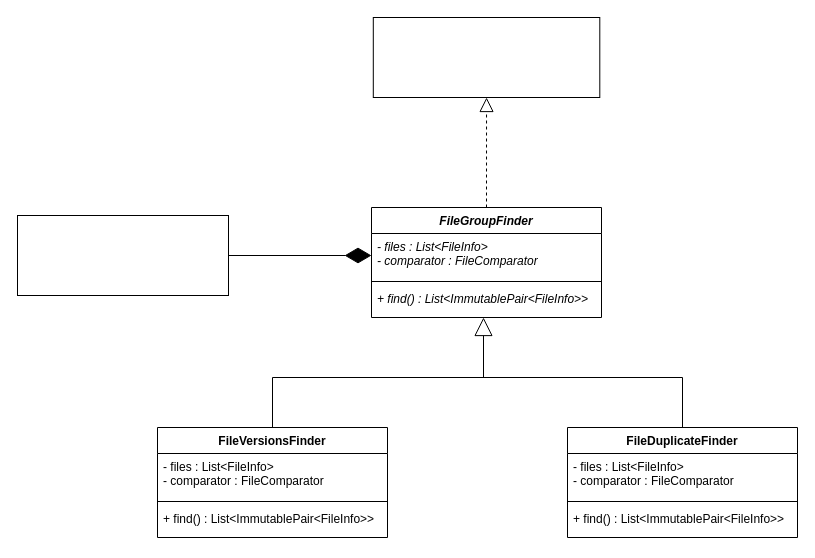
Some shapes in this 815 by 558 pixel diagram are drawn without their labels. Each missing label, with the box of its shape:
<<Interface>> FileComparator + compare(FileInfo, FileInfo) : boolean: (16, 214, 228, 296)
<<Interface>> FileFinder + find() : List<ImmutablePair<FileInfo>>: (372, 16, 600, 98)
